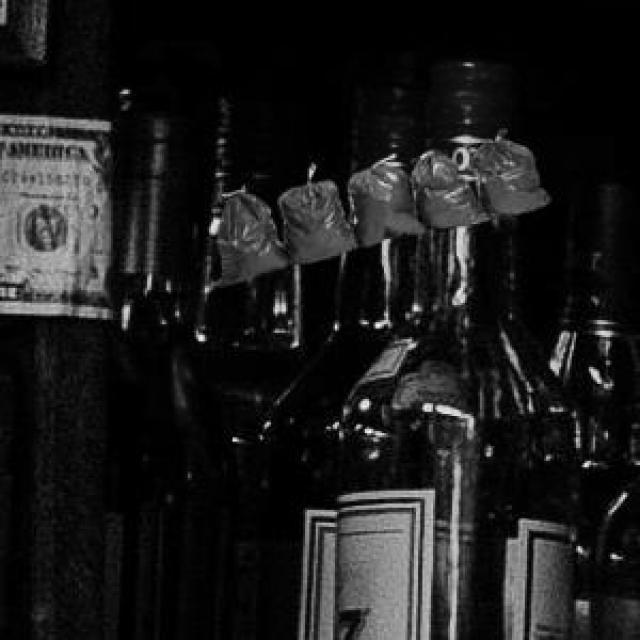miscellaneous trash: (209, 132, 546, 282)
